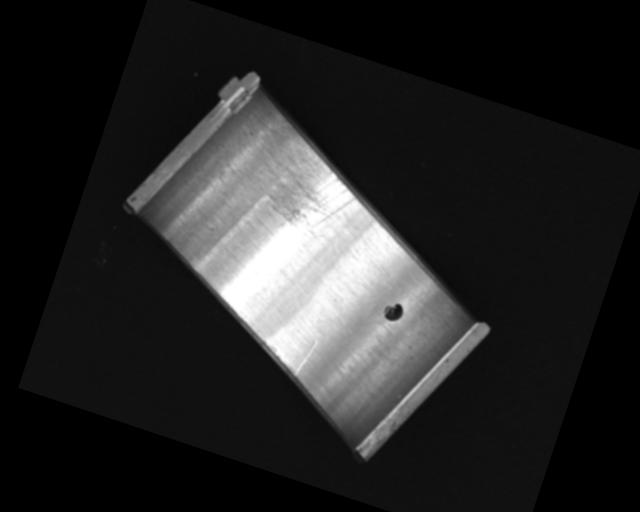blot: (380, 299, 406, 324)
nick: (293, 336, 318, 378)
scratch: (245, 116, 372, 247)
